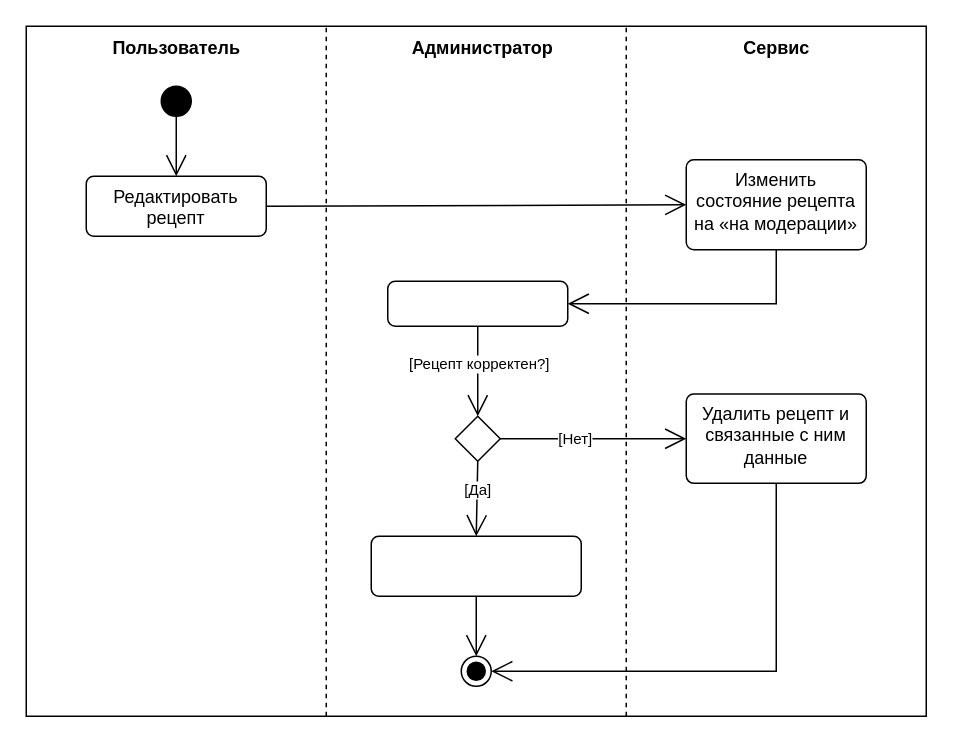
The diagram is 953 pixels wide and 744 high, and some of its shapes have lost their labels. Here are the shapes that lost their labels. From the top down, the centre of each, then its label:
(x=477, y=303): Проверить рецепт
(x=475, y=565): Опубликовать обновлённый рецепт
